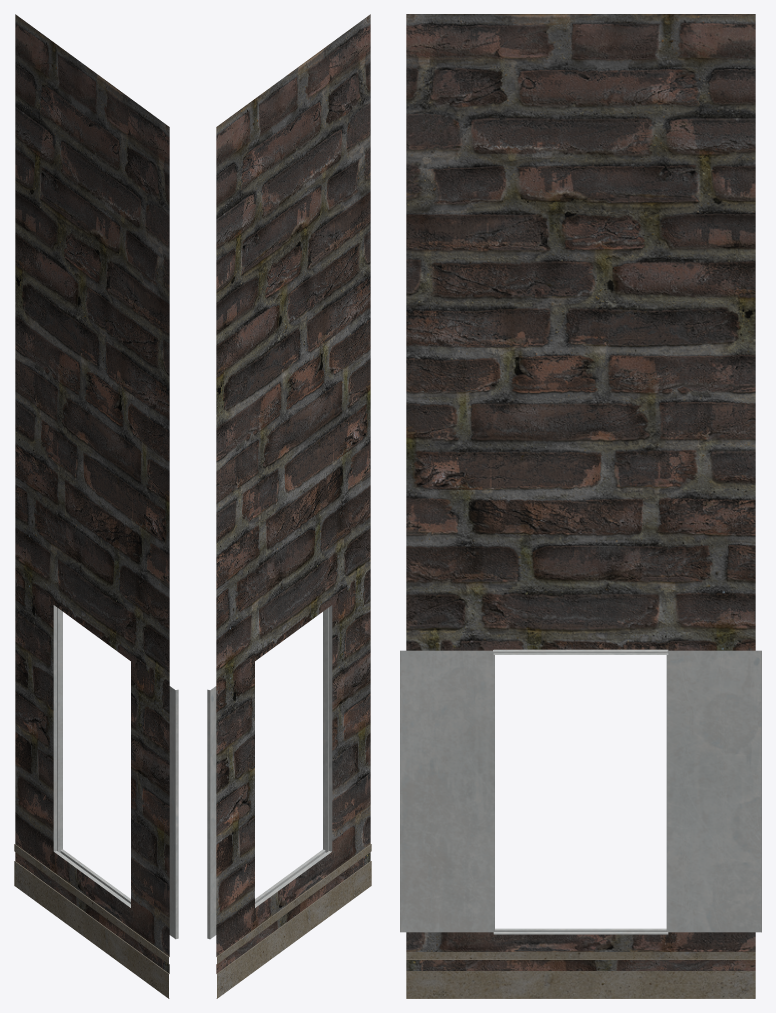
Rendered from MuroAscensor.fbx.
3 views of the same model, side by side, from view 1: azimuth 30°, elevation 25°; view 2: azimuth 150°, elevation 25°; view 3: azimuth 270°, elevation 25° (orthographic). The views are drawn at different scales.
Visible parts, largest first — view 1: Exterior; view 2: Exterior; view 3: Exterior.
Part boxes in pixels (x1=…): Exterior: x1=14, y1=14, x2=178, y2=998; Exterior: x1=207, y1=14, x2=371, y2=998; Exterior: x1=400, y1=14, x2=761, y2=998.
Size of the model in its own units: 8.47 by 700 by 233.
3 materials, 3 textured.
